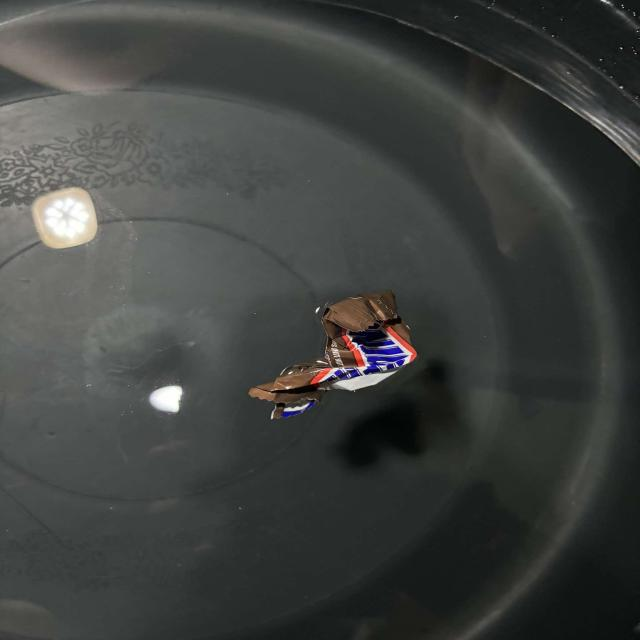Plastic Wrapper: (249, 291, 417, 419)
